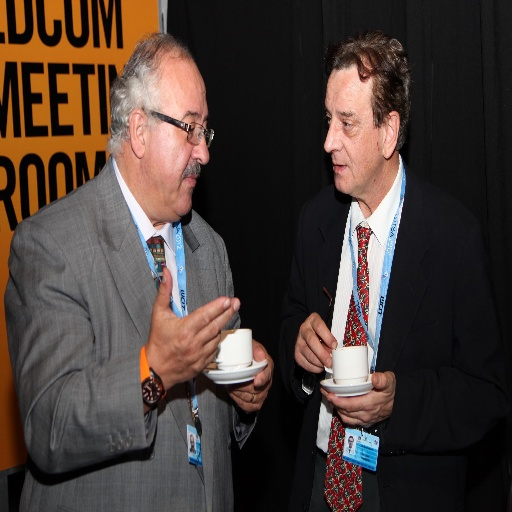hand: (146, 266, 241, 389), (319, 371, 397, 431), (227, 336, 275, 417), (298, 307, 335, 369)
